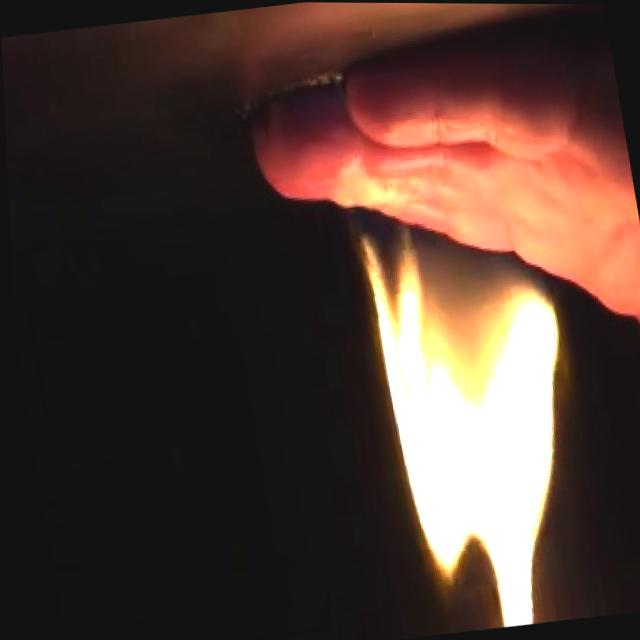helmet: (362, 186, 605, 635)
